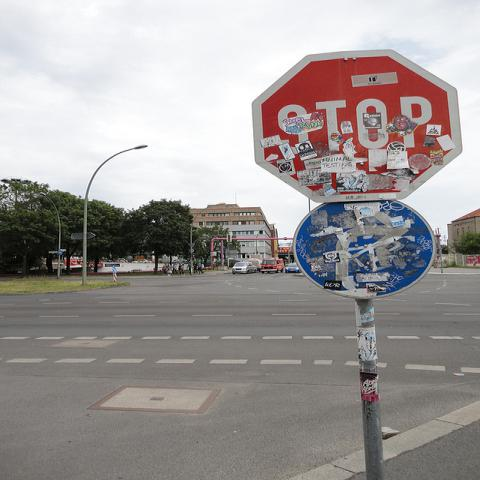car: (231, 262, 257, 274), (284, 263, 300, 273), (170, 258, 188, 264), (131, 260, 149, 264)
truck: (261, 260, 285, 273)
